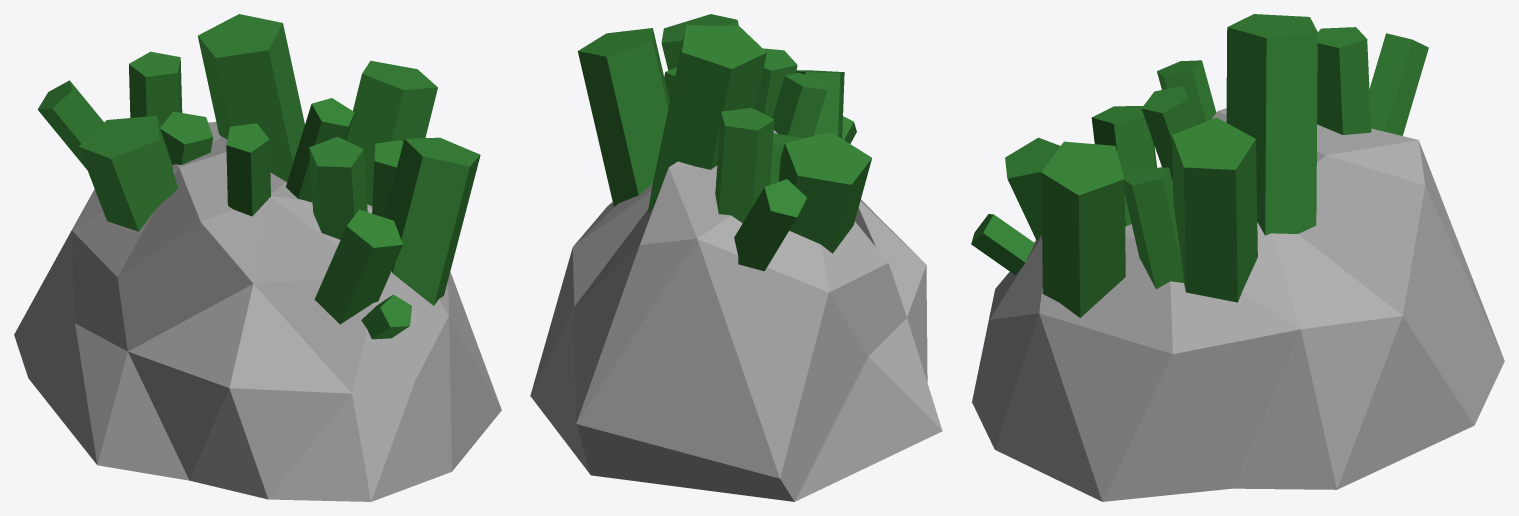
File: Esmeralda.fbx
3 renders of one model, left to right at view 1: azimuth 30°, elevation 25°; view 2: azimuth 150°, elevation 25°; view 3: azimuth 270°, elevation 25°, orthographic. The views are drawn at different scales.
Visible parts, largest first — view 1: pCylinder18; view 2: pCylinder18; view 3: pCylinder18.
Part boxes in pixels (<box>): pCylinder18: <box>14,14,501,501</box>; pCylinder18: <box>530,14,942,501</box>; pCylinder18: <box>971,14,1504,501</box>.
Size of the model in its own units: 19.16 by 18.61 by 23.09.
